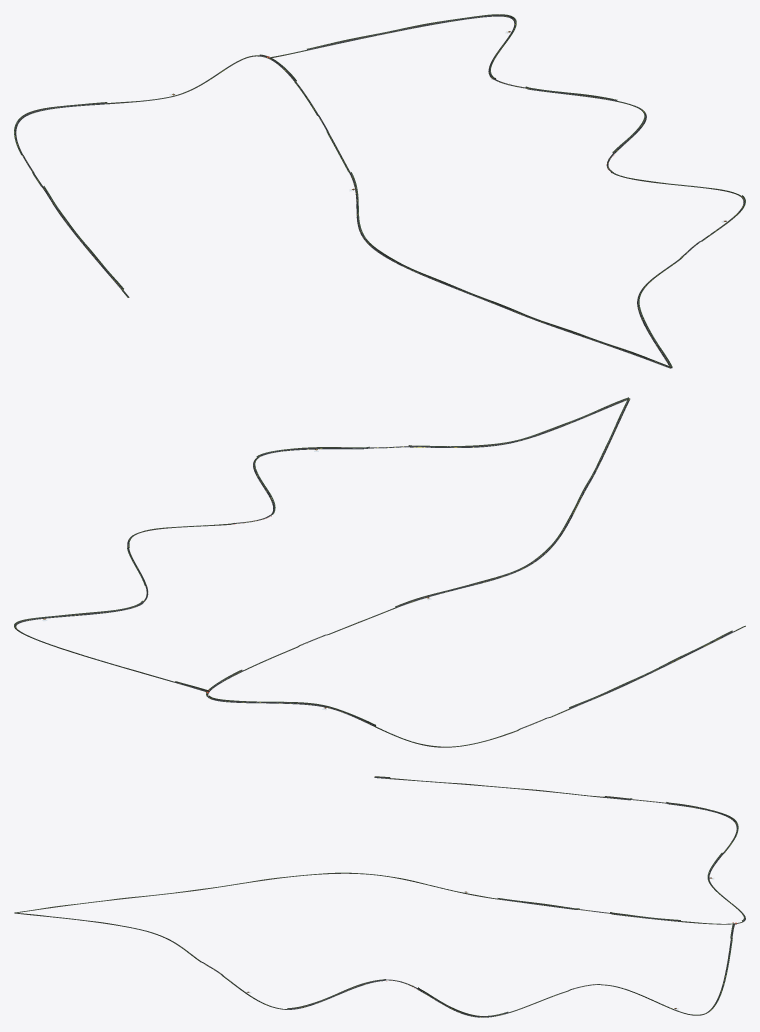
Rendered from deo_trai_mat_da_sar_da_nhim_va_cau_can_rung_thong.glb.
The picture shows the model from 3 angles, top to bottom: view 1: azimuth 30°, elevation 25°; view 2: azimuth 150°, elevation 25°; view 3: azimuth 270°, elevation 25°; orthographic projection. The views are drawn at different scales.
Parts seen in each view (by area): view 1: DaSar_Asphalt_Carriageway, DaSar_Split_Granite_Taluy_And_Bridge_Piers, DaSar_Northeast_Basalt_Rock_Cliffs, DaSar_Highland_Pine_Moss_Benches; view 2: DaSar_Split_Granite_Taluy_And_Bridge_Piers, DaSar_Asphalt_Carriageway, DaSar_Northeast_Basalt_Rock_Cliffs, DaSar_Highland_Pine_Moss_Benches; view 3: DaSar_Northeast_Basalt_Rock_Cliffs, DaSar_Highland_Pine_Moss_Benches, DaSar_Split_Granite_Taluy_And_Bridge_Piers, DaSar_Asphalt_Carriageway.
Part boxes in pixels (box(x1,y1,x2,y2)): DaSar_Asphalt_Carriageway: box(15, 15, 744, 368); DaSar_Split_Granite_Taluy_And_Bridge_Piers: box(14, 15, 745, 368); DaSar_Northeast_Basalt_Rock_Cliffs: box(14, 14, 745, 367); DaSar_Highland_Pine_Moss_Benches: box(14, 14, 745, 367); DaSar_Split_Granite_Taluy_And_Bridge_Piers: box(14, 398, 733, 747); DaSar_Asphalt_Carriageway: box(14, 398, 744, 745); DaSar_Northeast_Basalt_Rock_Cliffs: box(14, 397, 745, 747); DaSar_Highland_Pine_Moss_Benches: box(14, 397, 745, 746); DaSar_Northeast_Basalt_Rock_Cliffs: box(14, 776, 743, 1016); DaSar_Highland_Pine_Moss_Benches: box(15, 776, 744, 1016); DaSar_Split_Granite_Taluy_And_Bridge_Piers: box(15, 777, 745, 1017); DaSar_Asphalt_Carriageway: box(15, 777, 745, 1017).
Size of the model in its own units: 5124 by 49.84 by 6567.
